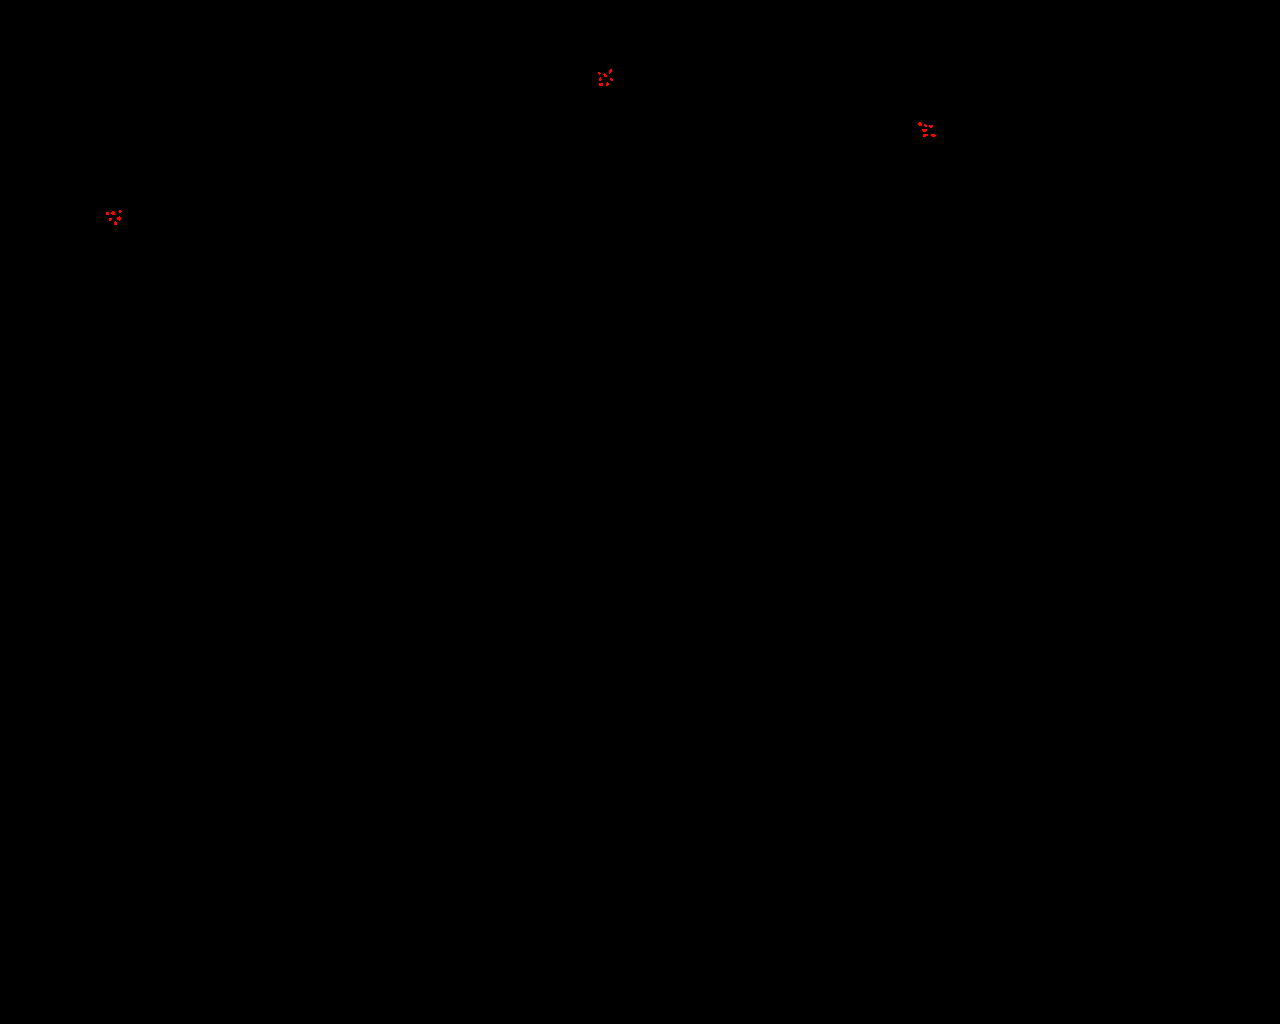Target: (117, 216, 121, 222), (603, 73, 607, 77), (111, 211, 115, 215), (609, 69, 612, 74), (922, 129, 927, 132), (923, 134, 928, 137), (931, 134, 936, 137), (599, 77, 602, 82), (606, 82, 609, 86), (599, 83, 603, 86), (918, 122, 922, 126), (598, 72, 601, 75), (610, 78, 613, 82), (924, 124, 927, 127), (119, 210, 122, 213), (106, 212, 109, 215), (109, 218, 112, 222), (114, 222, 117, 225), (929, 125, 933, 127)
